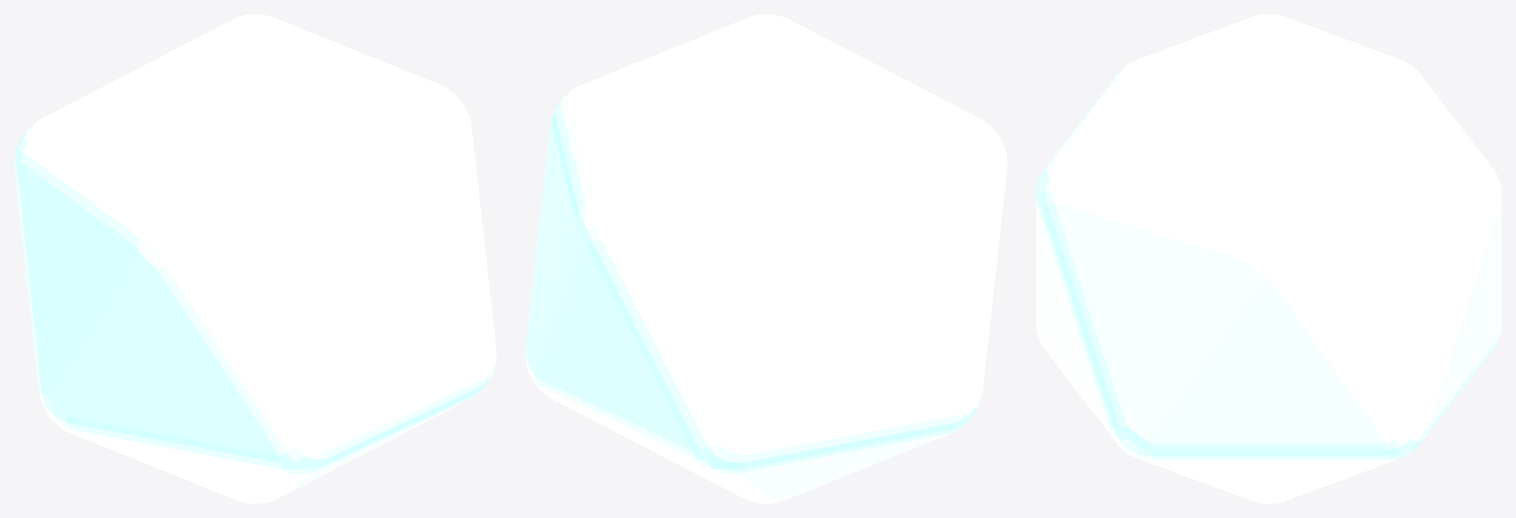
Rendered from orchestrator.glb.
3 renders of one model, left to right at view 1: azimuth 30°, elevation 25°; view 2: azimuth 150°, elevation 25°; view 3: azimuth 270°, elevation 25°, orthographic.
Parts seen in each view (by area): view 1: mc_orchestrator.001; view 2: mc_orchestrator.001; view 3: mc_orchestrator.001.
Part boxes in pixels (x1=…): mc_orchestrator.001: x1=14, y1=14, x2=496, y2=503; mc_orchestrator.001: x1=525, y1=14, x2=1007, y2=503; mc_orchestrator.001: x1=1036, y1=14, x2=1501, y2=503.
Bounding box in the file's own units: 1.74 × 1.9 × 1.67.
